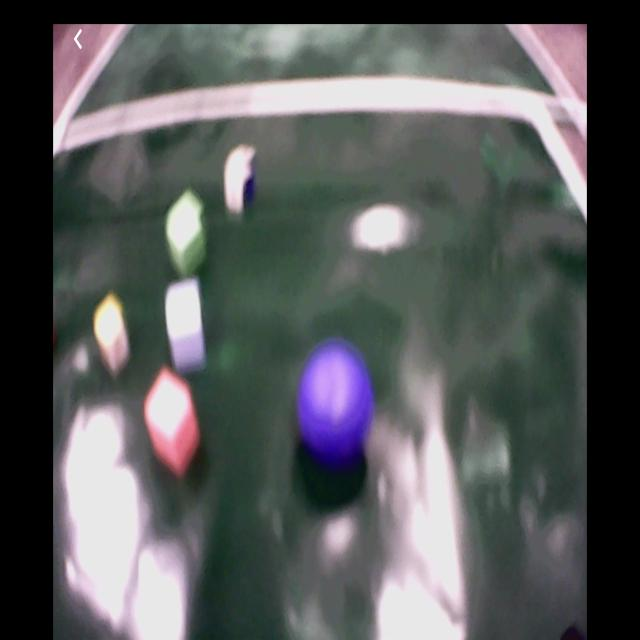ball: (301, 344, 372, 460)
